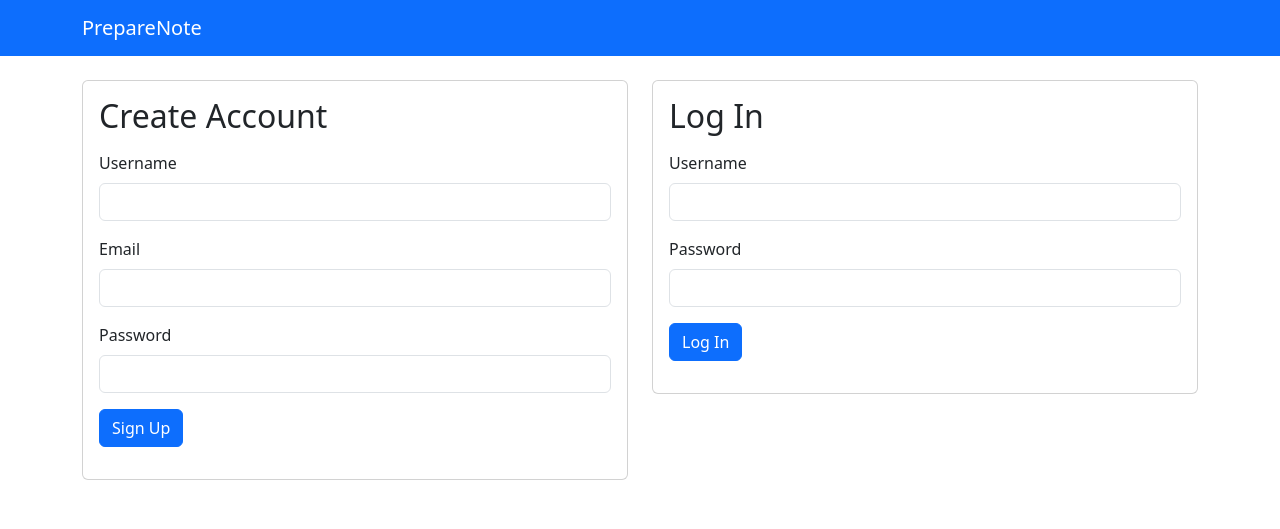
it: shows the notes after logging in and goes back after logging out
Type "ritam" into the field with id "login-username".
click(925, 202); type("ritam")  # box [669, 183, 1181, 221]
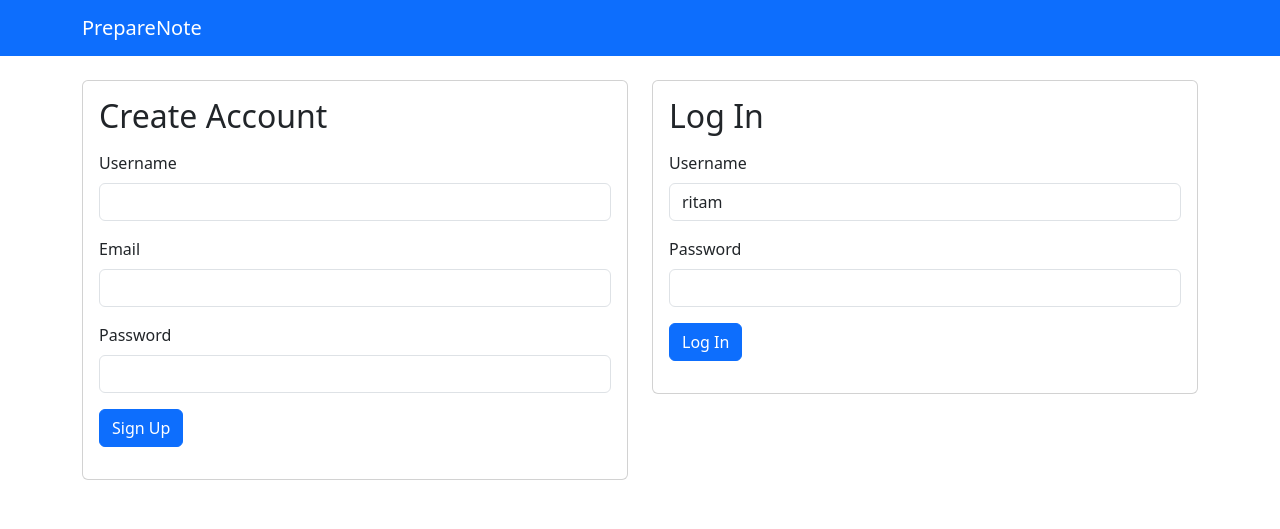
Type "test-password-123" into the password field with id "login-password".
click(925, 288); type("test-password-123")  # box [669, 269, 1181, 307]
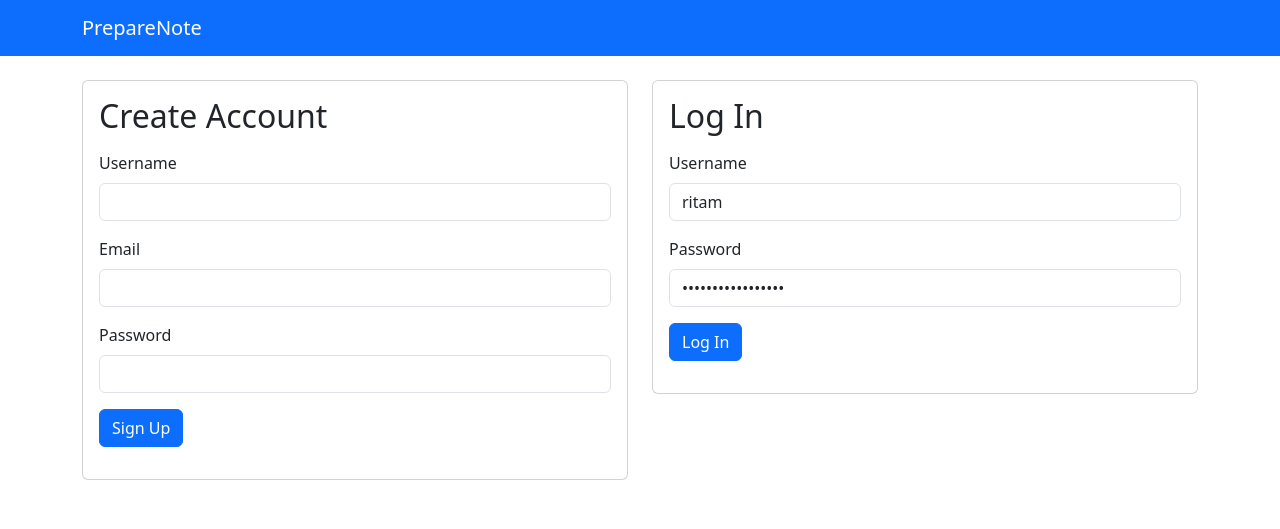
Click the button "Log In".
click(706, 342)  # box [669, 323, 742, 361]
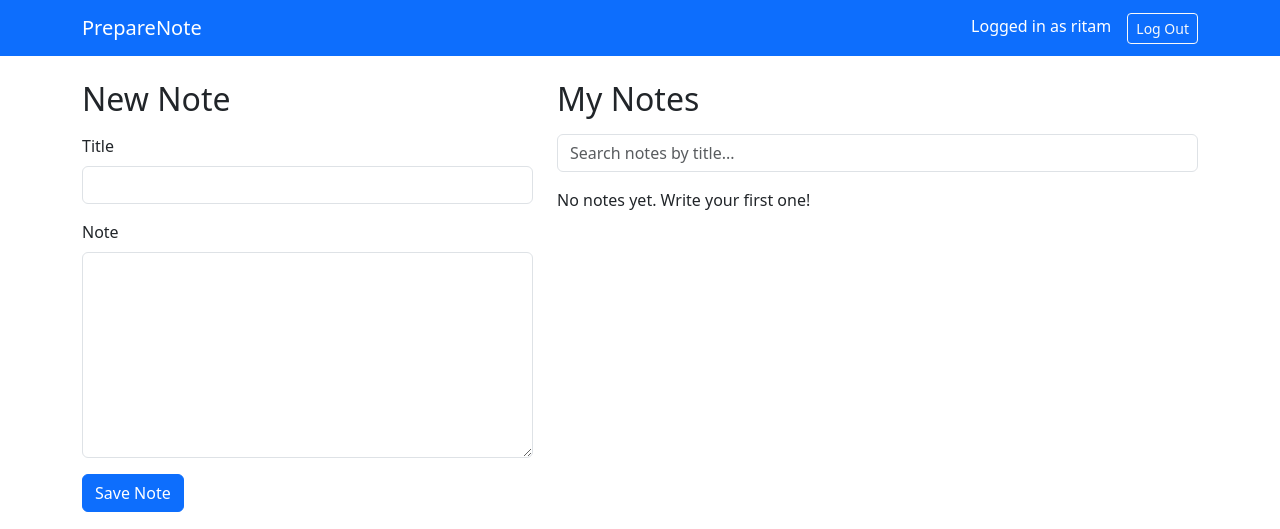
expect the text "Logged in as ritam" is shown: met, box [971, 15, 1111, 37]
expect the text "No notes yet. Write your first one!" is shown: met, box [557, 189, 810, 211]
Click the button "Log Out".
click(1163, 28)  # box [1127, 12, 1198, 44]
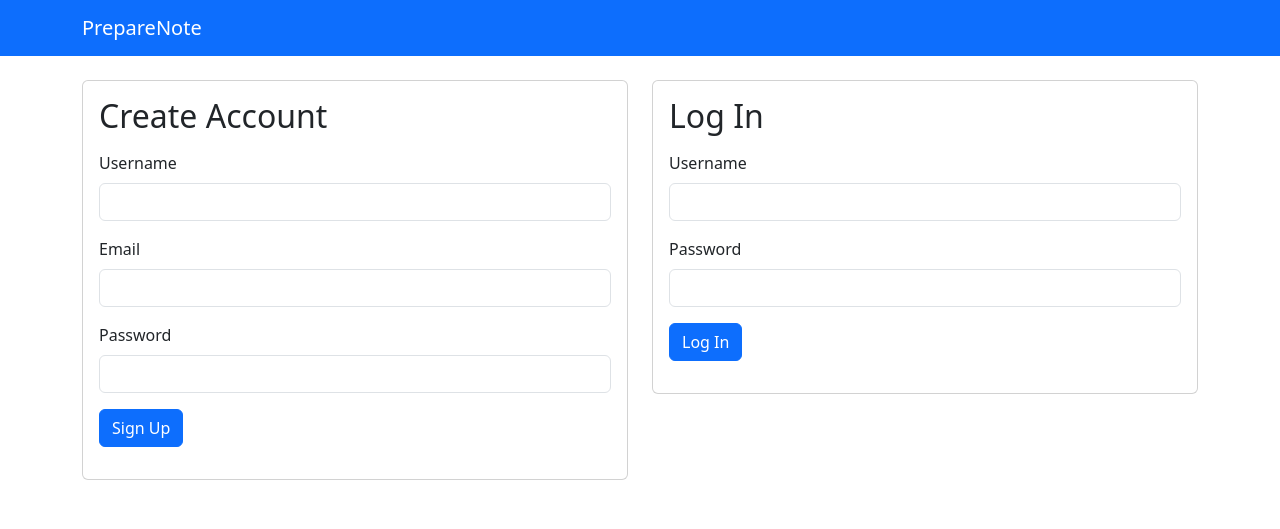
expect the heading "Log In" is shown: met, box [669, 94, 764, 137]
